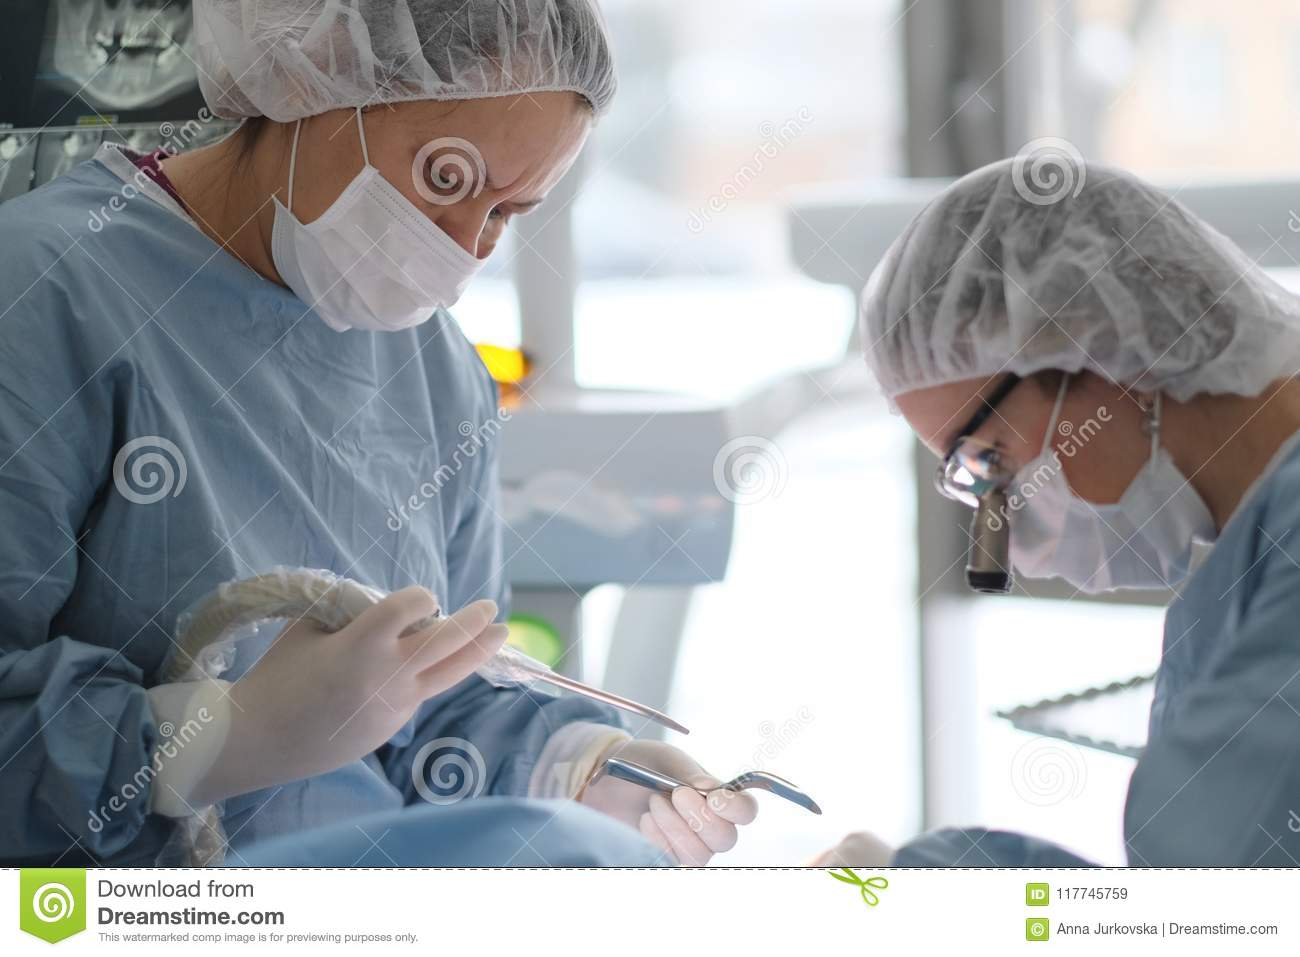mask: (973, 455, 1216, 630), (270, 183, 498, 330)
